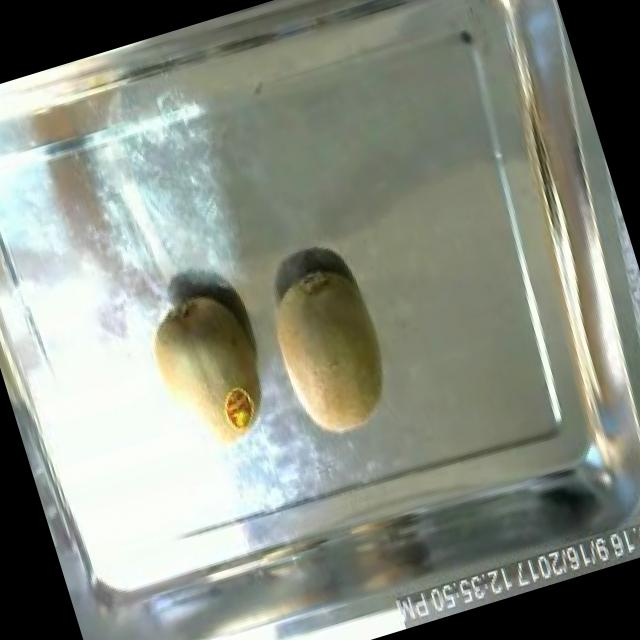Fruit: (244, 243, 413, 456), (126, 272, 292, 473)
